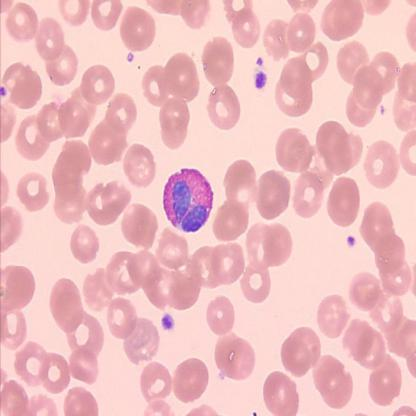Eosinophil: (160, 167, 216, 235)
